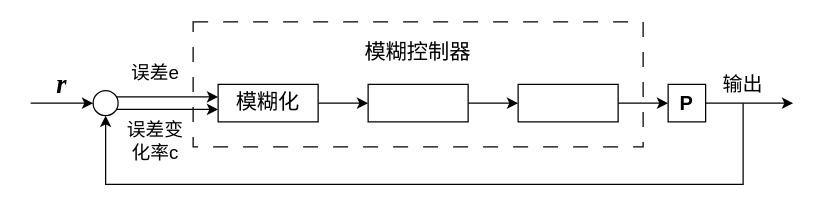
This 825x216 diagram has some shape labels left out. The centre of each missing label's shape, as x and y in pixels:
"模糊决策" goes at pixel 417 102.
"逆模糊化" goes at pixel 567 102.
